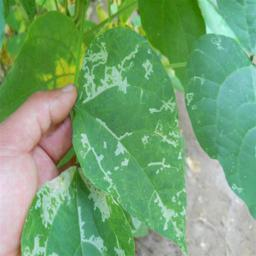liriomyza: (81, 41, 139, 102), (77, 132, 121, 204), (31, 161, 76, 230), (77, 165, 112, 222), (149, 187, 185, 238), (142, 117, 183, 161), (76, 205, 110, 256), (96, 117, 133, 157), (22, 233, 60, 256), (146, 95, 176, 114), (146, 156, 171, 174), (141, 57, 154, 80), (112, 244, 128, 256), (192, 73, 207, 85), (186, 92, 193, 106), (122, 159, 130, 167)
